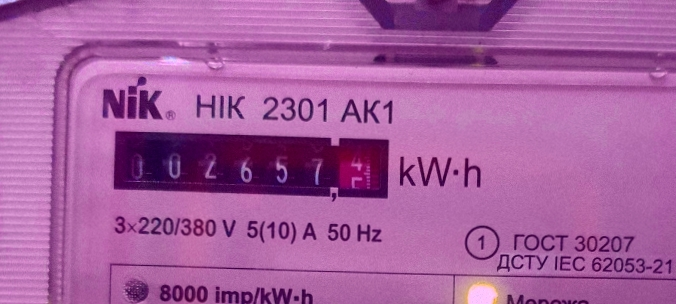0: (166, 149, 182, 179), (128, 151, 145, 179)
2: (202, 150, 219, 179)
4: (349, 145, 364, 171)
5: (273, 153, 290, 184), (349, 174, 364, 189)
6: (238, 153, 253, 183)
7: (310, 154, 325, 186)
screen: (104, 119, 400, 209)
